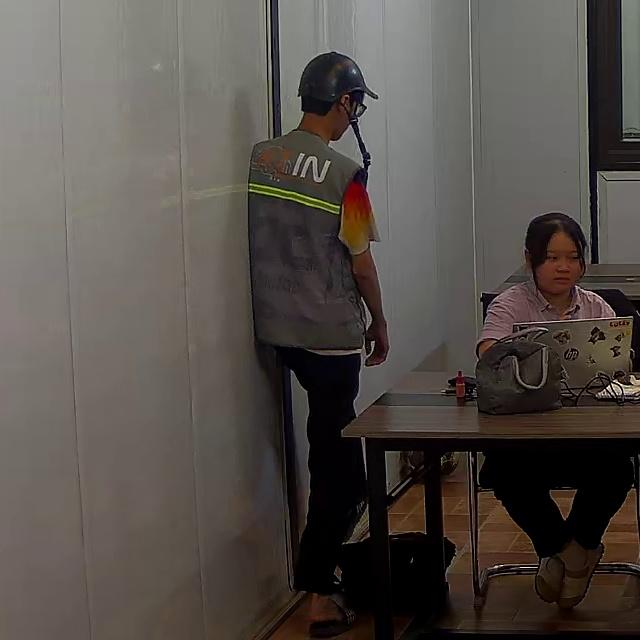helmet: (296, 50, 379, 106)
no_helmet: (524, 212, 588, 285)
none: (476, 278, 616, 358)
vest: (245, 130, 374, 352)
